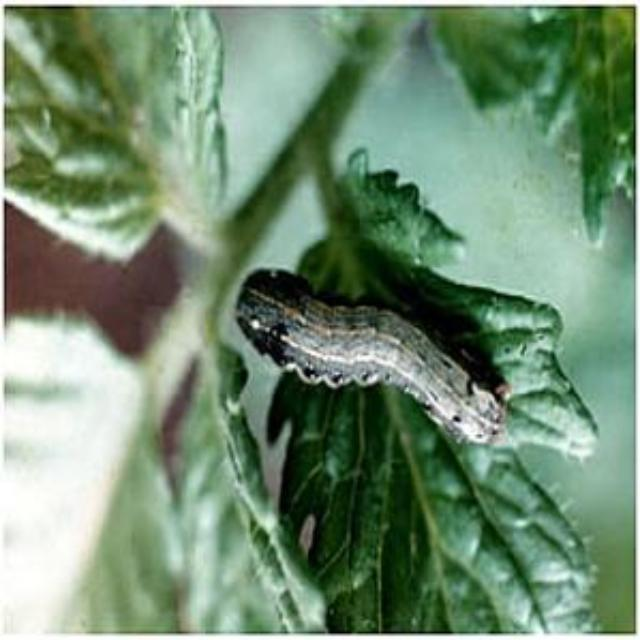Tobacco cutworm: (204, 233, 514, 502)
